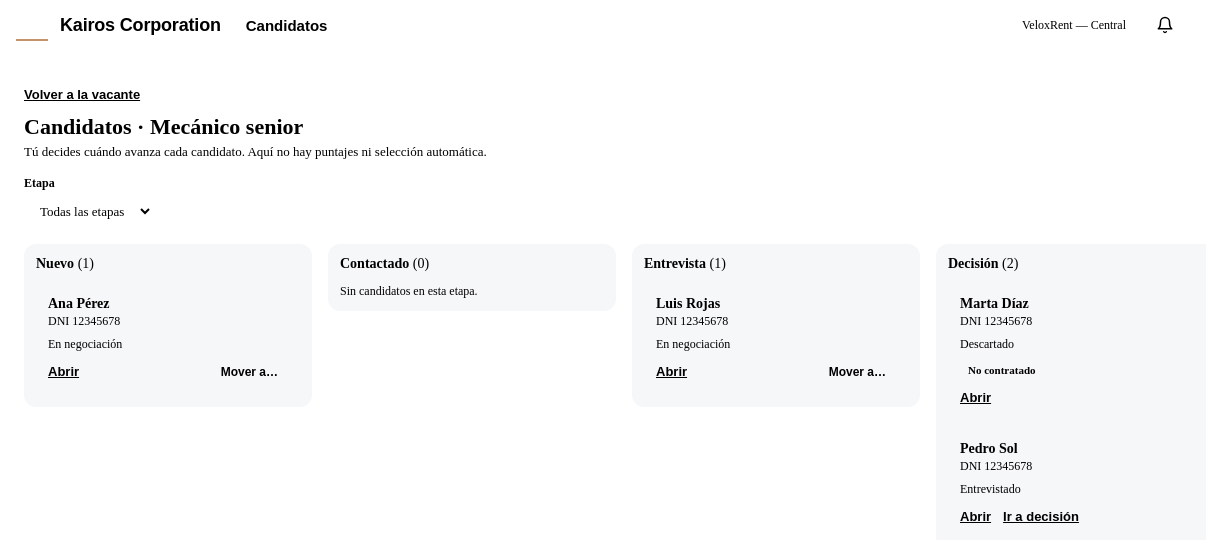
CandidatesBoardScreen (REC-03) › el filtro por etapa muestra solo esa columna
Check: the text "Ana Pérez" is shown, box x1=48 y1=296 x2=110 y2=311
Step 1. Select "Entrevista" in the dropdown labelled "Etapa" → point(88, 212), box x1=24 y1=195 x2=153 y2=228
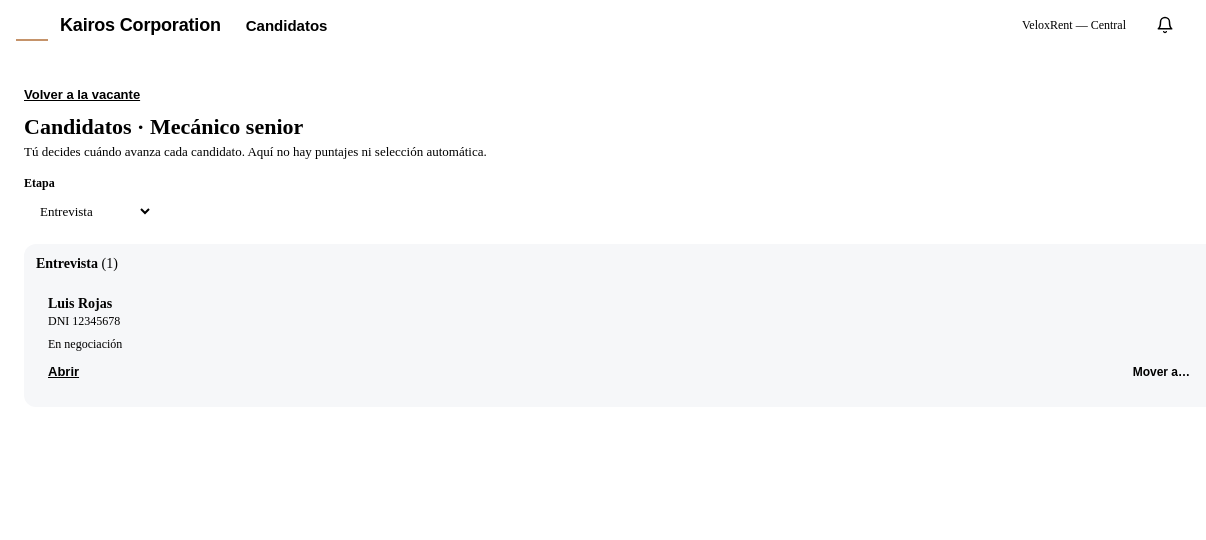
Check: the text "Luis Rojas" is shown, box x1=48 y1=296 x2=112 y2=311
Check: the text "Ana Pérez" is gone
